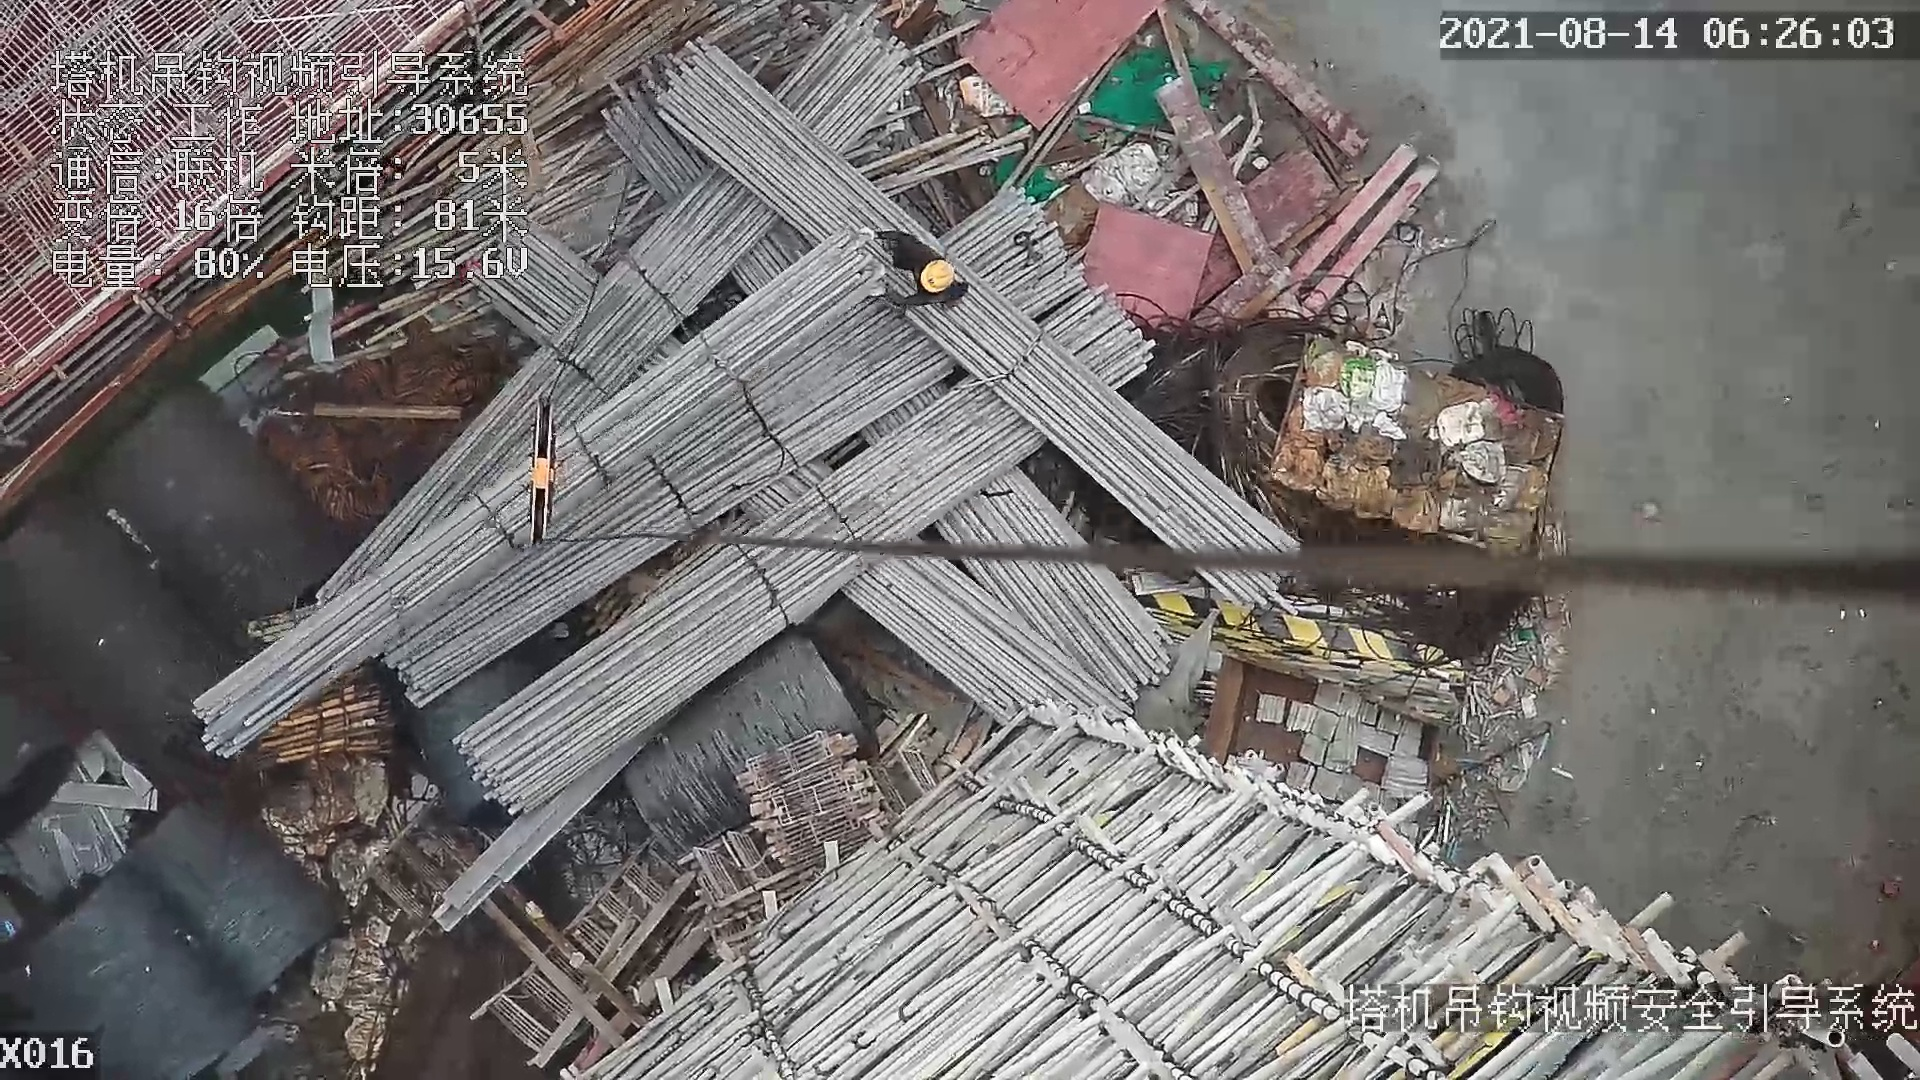helmet: (914, 252, 958, 293)
hook: (510, 395, 564, 547)
person: (847, 224, 973, 313)
